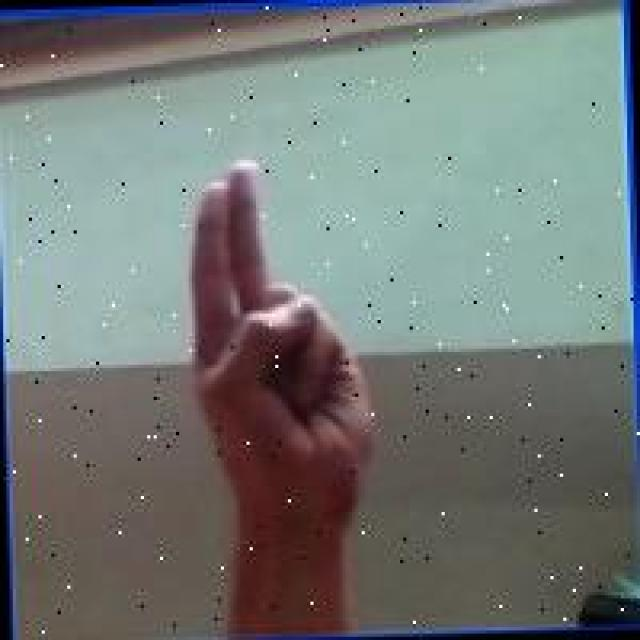U: (181, 144, 382, 534)
